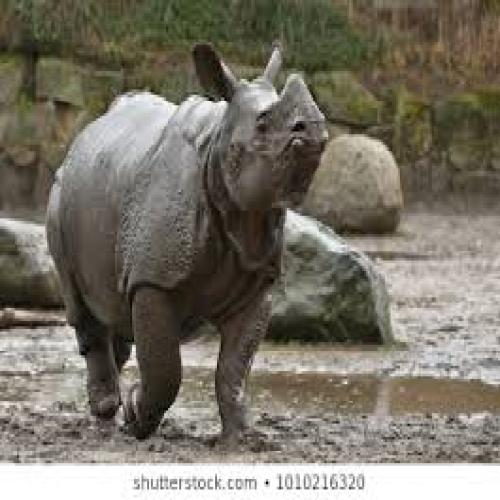rhino-endangered: (45, 40, 328, 448)
